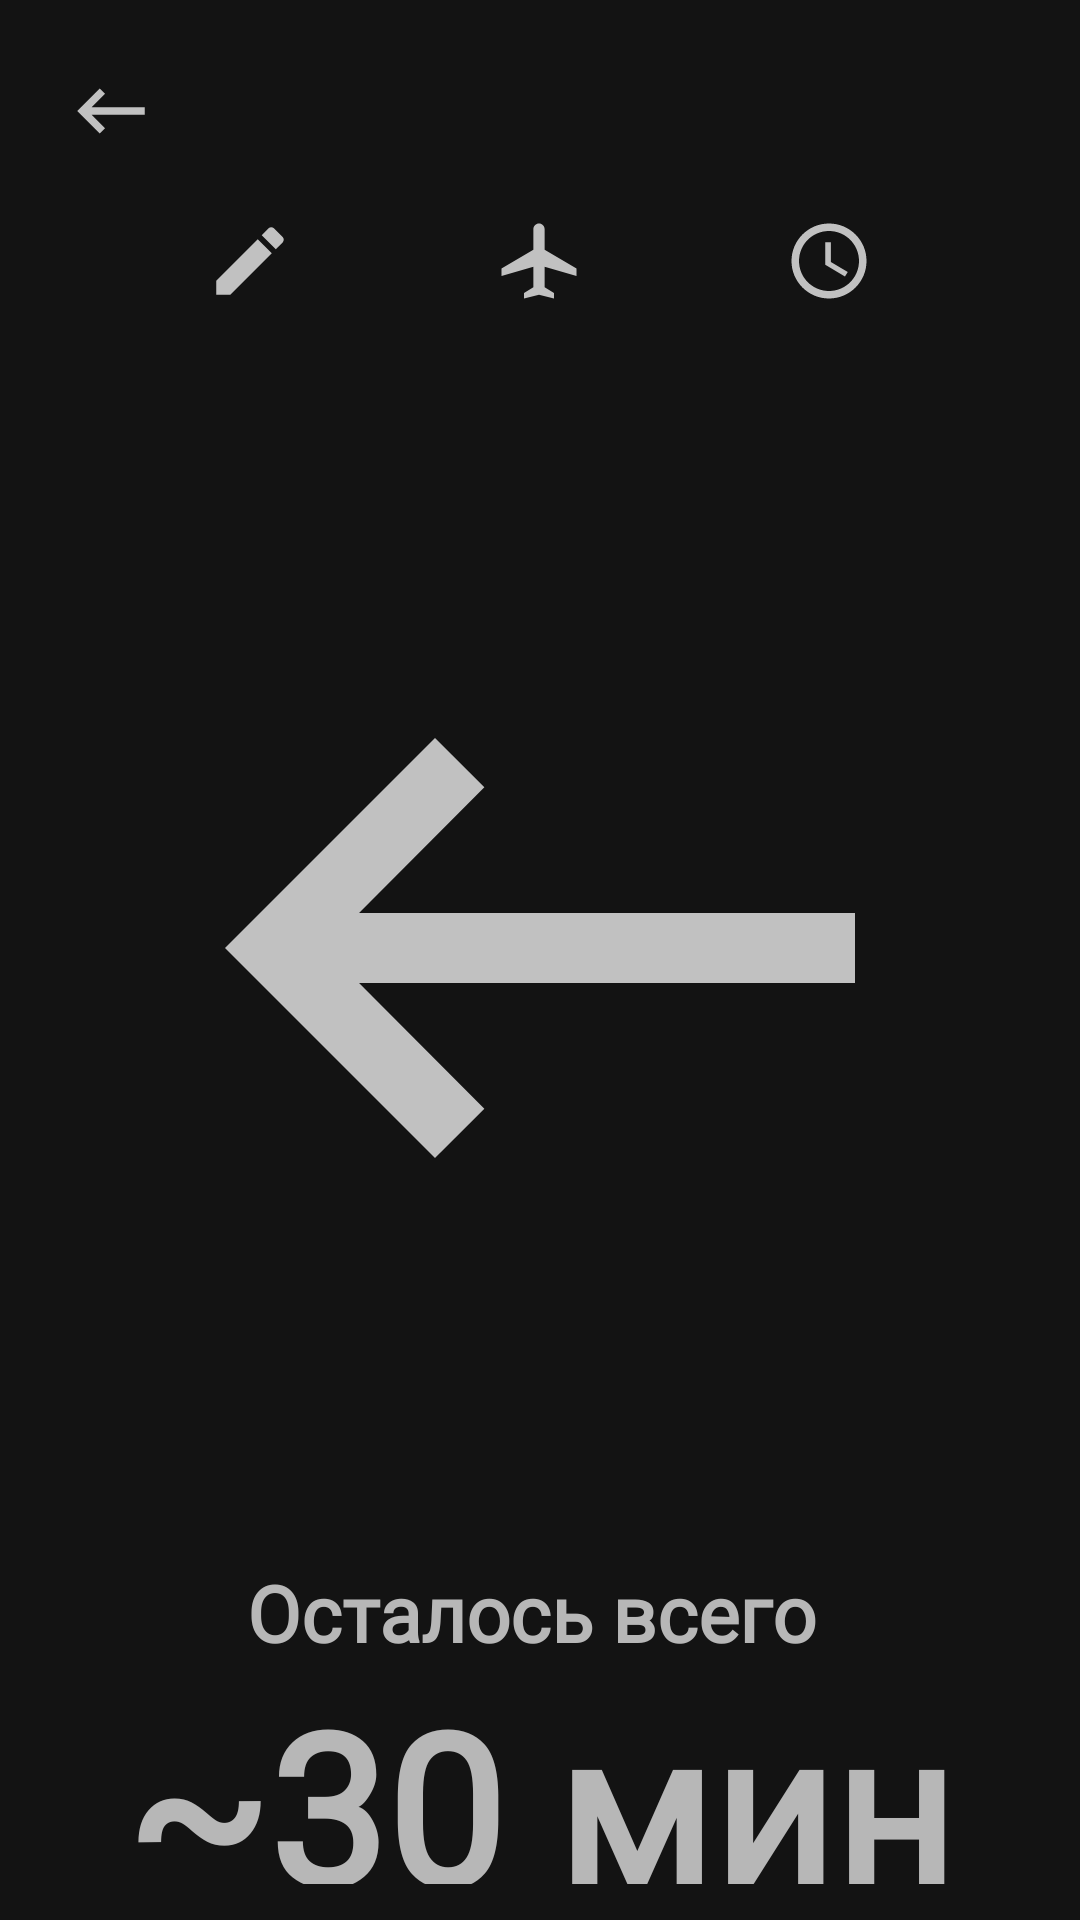

Where icons sit on this 1080px×1920px app screen, as (x1, y1, x2, y2):
progress fly: (501, 223, 577, 299)
progress time: (791, 223, 867, 299)
progress work: (216, 227, 284, 295)
